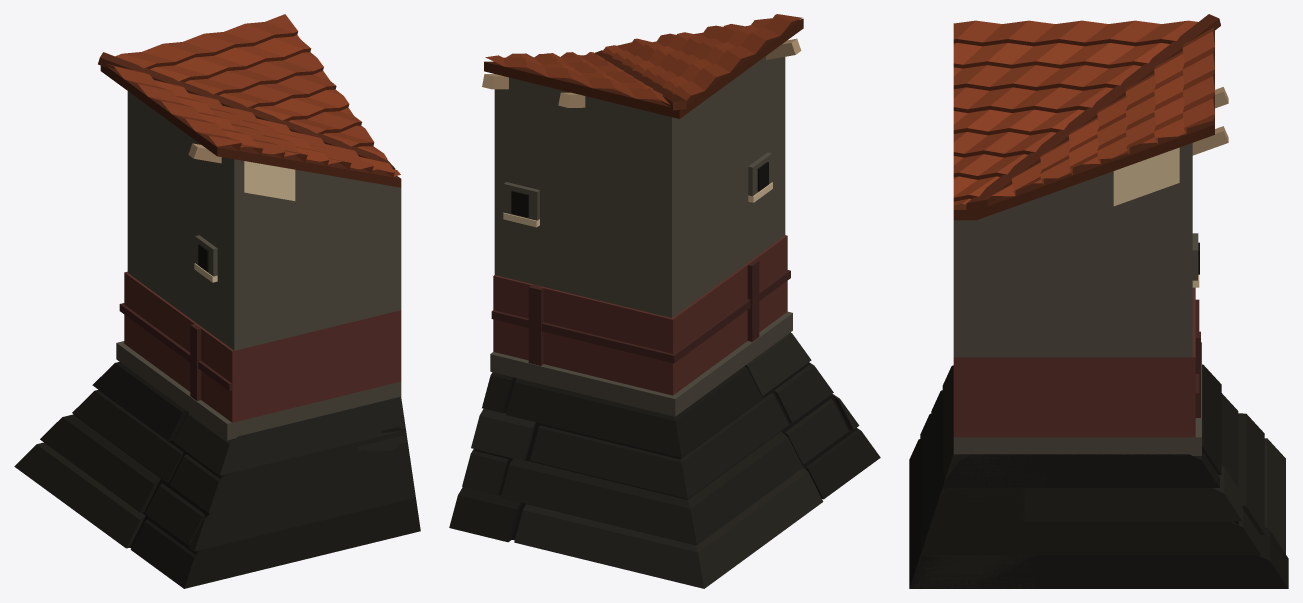
Rendered from VerJoint03.glb.
3 renders of one model, left to right at view 1: azimuth 30°, elevation 25°; view 2: azimuth 150°, elevation 25°; view 3: azimuth 270°, elevation 25°, orthographic. The views are drawn at different scales.
Parts seen in each view (by area): view 1: VerJoint03_mortar; view 2: VerJoint03_mortar; view 3: VerJoint03_mortar.
Part boxes in pixels (x1,y1,x2,y2): VerJoint03_mortar: (14,14,420,588); VerJoint03_mortar: (449,14,880,588); VerJoint03_mortar: (909,14,1288,588).
Size of the model in its own units: 3.33 by 5.61 by 4.08.
